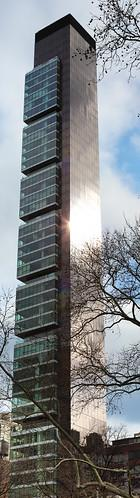building: (8, 12, 112, 495)
